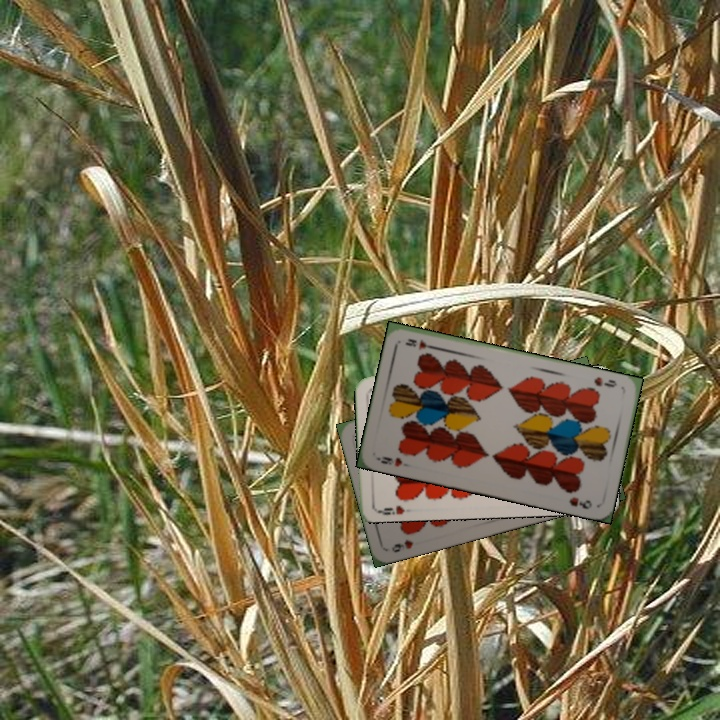H9: (387, 535, 416, 555), (373, 452, 405, 469), (374, 501, 407, 517), (590, 373, 620, 390)
